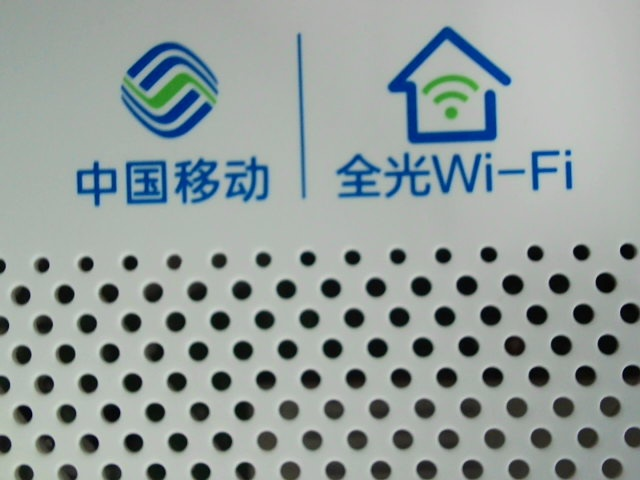BJ_QuanGuangMobile: (67, 25, 580, 211)
